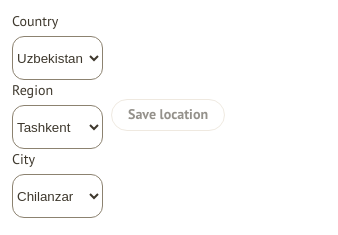
PropertyLocationField › saves the new country, region and city ids
Expected: the dropdown labelled "Country" shows "Uzbekistan", top-left (12, 36), bottom-right (103, 80)
Expected: the dropdown labelled "City" shows "Chilanzar", top-left (12, 174), bottom-right (103, 218)
Select "Samarkand" in the dropdown labelled "Region" at (58, 127), box top-left (12, 105), bottom-right (103, 149)
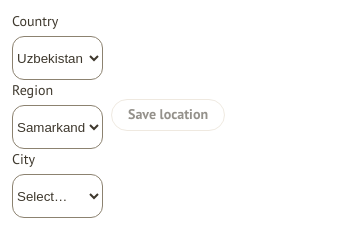
Expected: the button "Save location" is disabled, top-left (111, 98), bottom-right (225, 130)
Select "Samarkand" in the dropdown labelled "City" at (58, 196), box top-left (12, 174), bottom-right (103, 218)
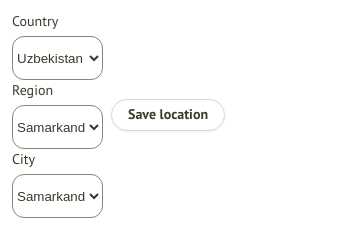
Click the button "Save location" at (168, 114), box top-left (111, 98), bottom-right (225, 130)
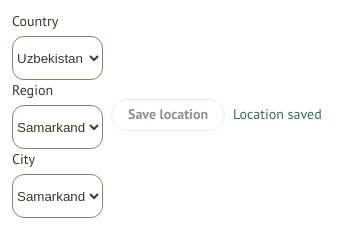
Result: the message reads "Location saved" at top-left (233, 105), bottom-right (322, 123)
